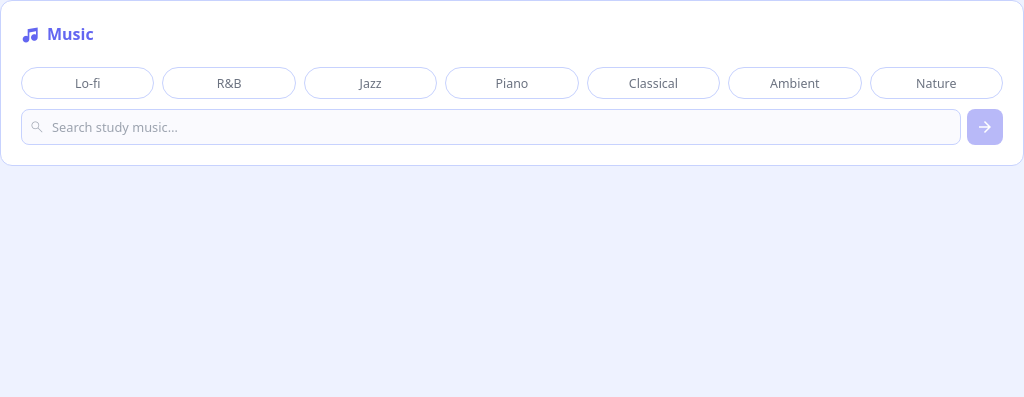
Test: StudyVibeMusic › mood selection triggers fetch › displays video titles and thumbnails after fetch succeeds
Click the button "Lo-fi".
click(88, 83)  # box [21,67,154,99]
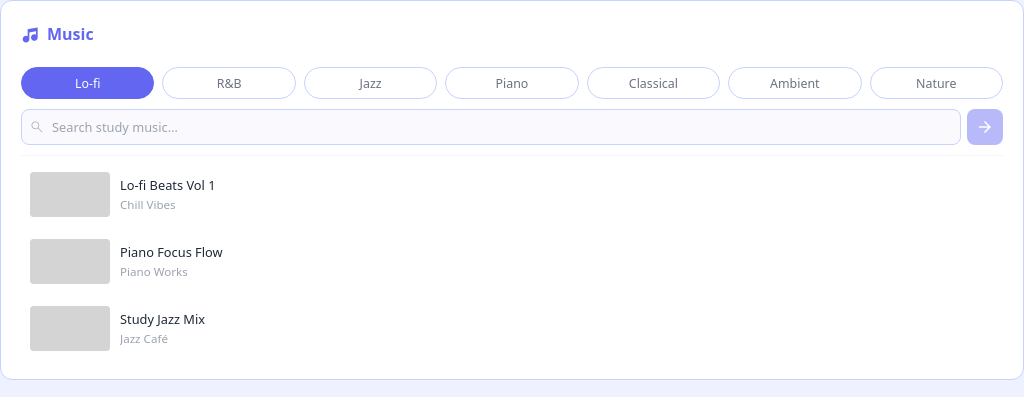
Check: the list named "Music results" is shown, box [21,164,1003,359]
Check: the text "Lo-fi Beats Vol 1" is shown, box [120,176,216,194]
